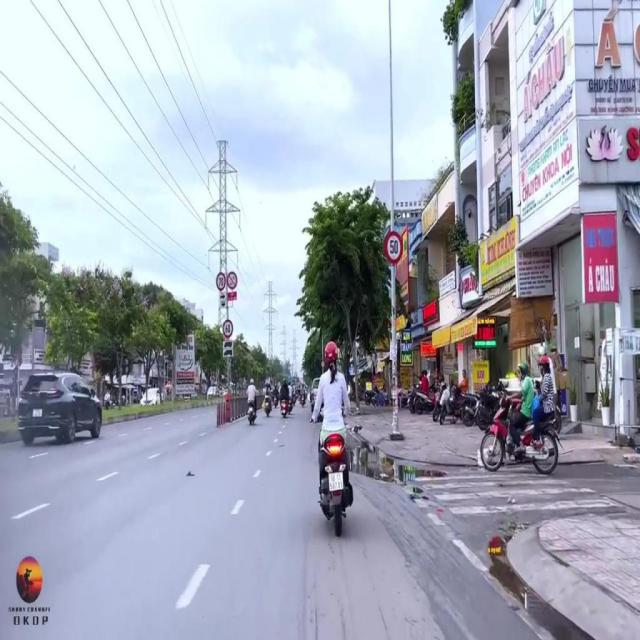cam_xe_2_banh_va_xe_3_banh_co_dong_co: (227, 271, 237, 290)
khac: (217, 273, 226, 290), (222, 340, 234, 350), (222, 349, 234, 358), (220, 292, 227, 300), (221, 300, 227, 308)
toc_do_toi_da_50: (384, 231, 404, 263)
toc_do_toi_da_60: (223, 319, 233, 338)
